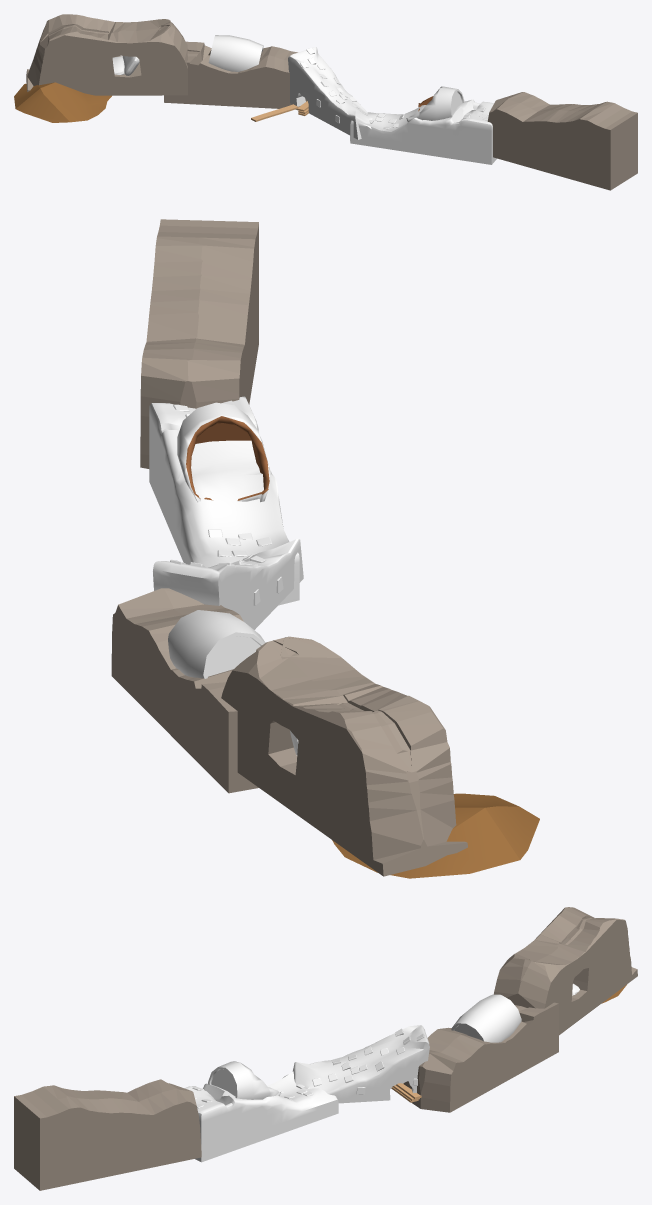
Rendered from damage_01.gltf.
3 renders of one model, top to bottom at view 1: azimuth 30°, elevation 25°; view 2: azimuth 150°, elevation 25°; view 3: azimuth 270°, elevation 25°, orthographic. The views are drawn at different scales.
Parts seen in each view (by area): view 1: CSGBakedMeshInstance3D, CSGBakedMeshInstance3D4, c2c_damaged_l_asset, CSGBakedMeshInstance3D3, s2c_damaged_asset, sm_dirt_cluster_022, sm_barrel_stand_c, CSGBakedMeshInstance3D2, sm_plank; view 2: CSGBakedMeshInstance3D4, CSGBakedMeshInstance3D, c2c_damaged_l_asset, CSGBakedMeshInstance3D3, s2c_damaged_asset, sm_dirt_cluster_022, sm_barrel_stand_c, CSGBakedMeshInstance3D2; view 3: CSGBakedMeshInstance3D, CSGBakedMeshInstance3D4, CSGBakedMeshInstance3D3, c2c_damaged_l_asset, s2c_damaged_asset, sm_barrel_stand_c, CSGBakedMeshInstance3D2.
Part boxes in pixels (<box>): CSGBakedMeshInstance3D: <box>487,92,637,190</box>; CSGBakedMeshInstance3D4: <box>26,14,187,95</box>; c2c_damaged_l_asset: <box>350,99,496,164</box>; CSGBakedMeshInstance3D3: <box>164,41,307,109</box>; s2c_damaged_asset: <box>288,47,372,139</box>; sm_dirt_cluster_022: <box>14,82,111,122</box>; sm_barrel_stand_c: <box>208,35,263,71</box>; CSGBakedMeshInstance3D2: <box>406,86,464,122</box>; sm_plank: <box>251,104,298,121</box>; CSGBakedMeshInstance3D4: <box>221,636,467,876</box>; CSGBakedMeshInstance3D: <box>140,219,258,468</box>; c2c_damaged_l_asset: <box>149,396,299,605</box>; CSGBakedMeshInstance3D3: <box>111,588,258,793</box>; s2c_damaged_asset: <box>153,539,303,629</box>; sm_dirt_cluster_022: <box>332,793,539,878</box>; sm_barrel_stand_c: <box>168,610,265,678</box>; CSGBakedMeshInstance3D2: <box>177,402,269,502</box>; CSGBakedMeshInstance3D: <box>14,1079,201,1190</box>; CSGBakedMeshInstance3D4: <box>493,907,637,1035</box>; CSGBakedMeshInstance3D3: <box>403,1002,558,1112</box>; c2c_damaged_l_asset: <box>184,1071,338,1162</box>; s2c_damaged_asset: <box>292,1025,429,1103</box>; sm_barrel_stand_c: <box>451,994,521,1042</box>; CSGBakedMeshInstance3D2: <box>208,1061,280,1099</box>.
Bounding box in the file's own units: 13.14 × 2.25 × 14.81.
